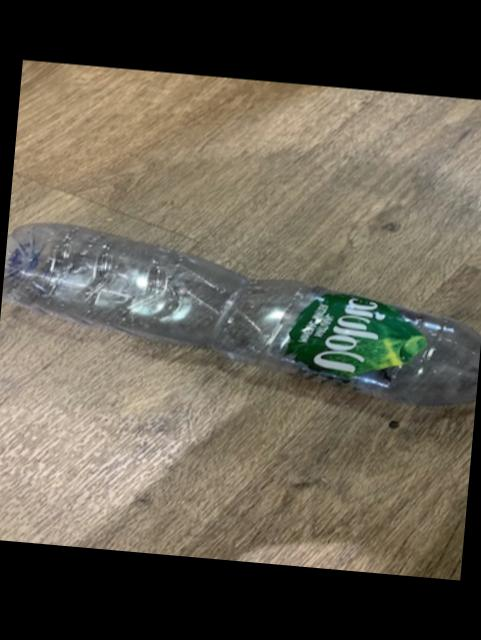plastic: (1, 225, 480, 407)
